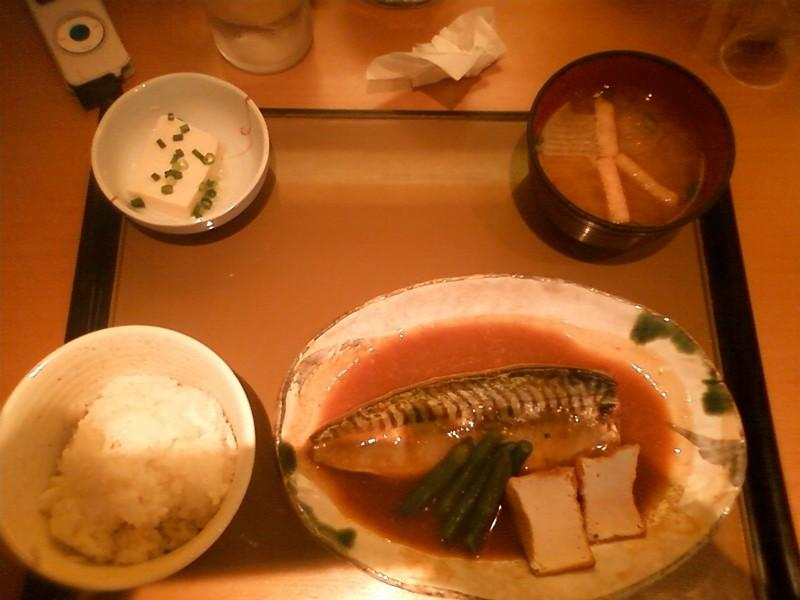rice: (41, 375, 236, 566)
